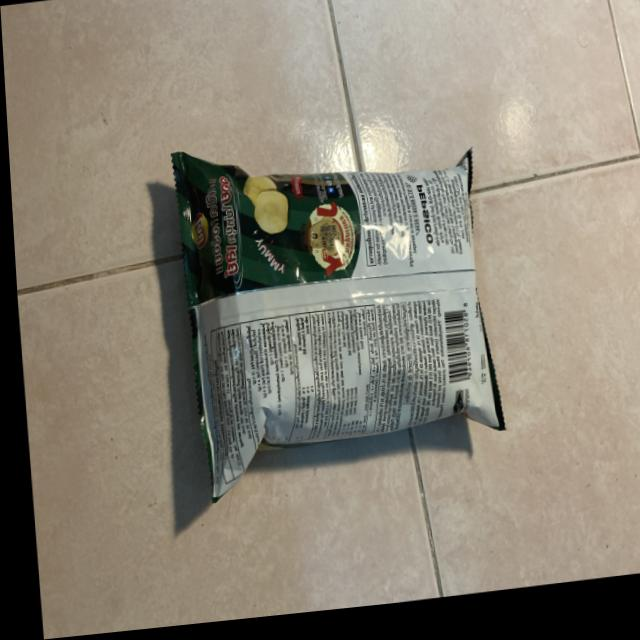Laygreen: (144, 118, 536, 533)
